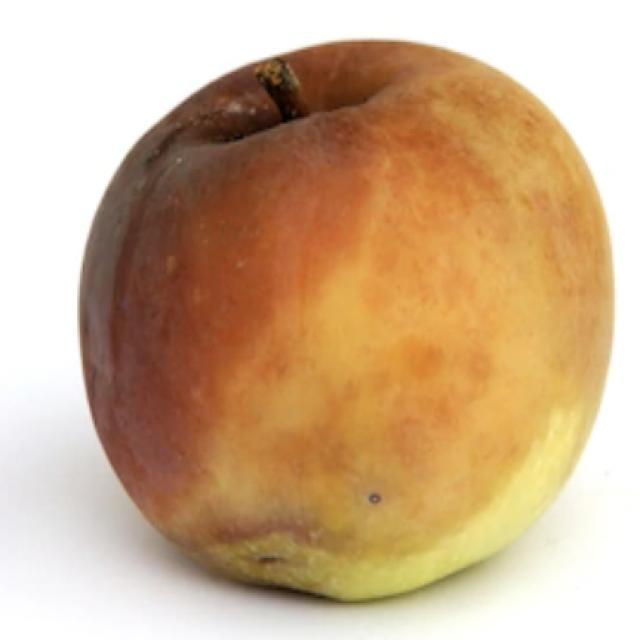Rotten: (79, 33, 618, 605)
